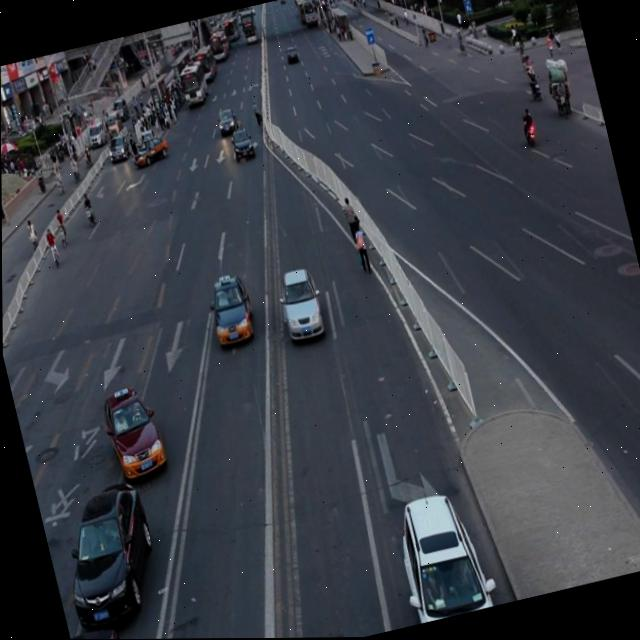car: (48, 474, 168, 629), (385, 481, 495, 625), (97, 380, 169, 481), (202, 269, 258, 349), (272, 262, 327, 343), (67, 619, 132, 640)
